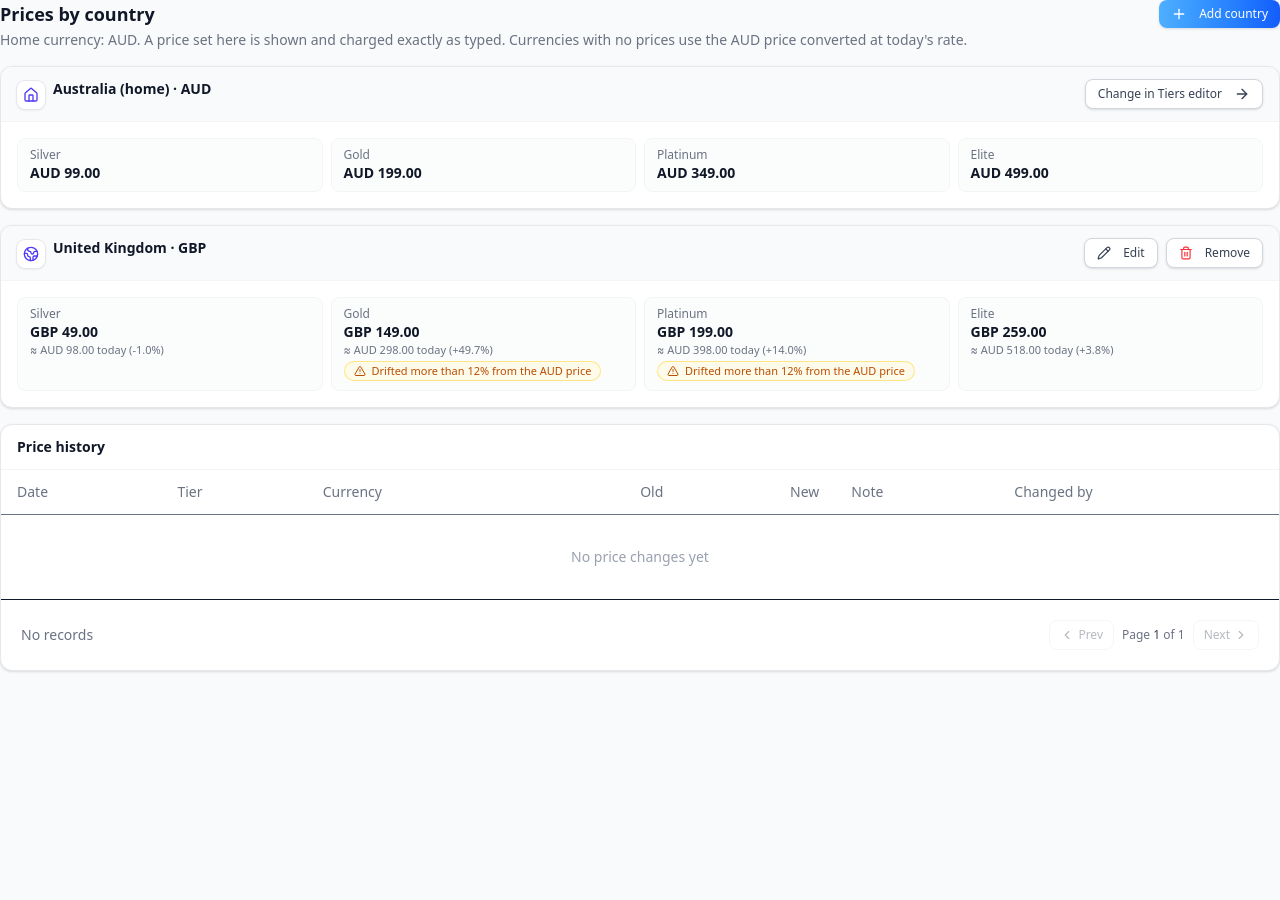
Test: Prices by country › shows VeloxVerse's error as-is
The width and height of the screenshot is (1280, 900).
What coordinates should you click on to do the following:
click the button with aria-label "Edit GBP prices"
I would click on:
 (1121, 253)
Its box is [1084, 238, 1158, 268].
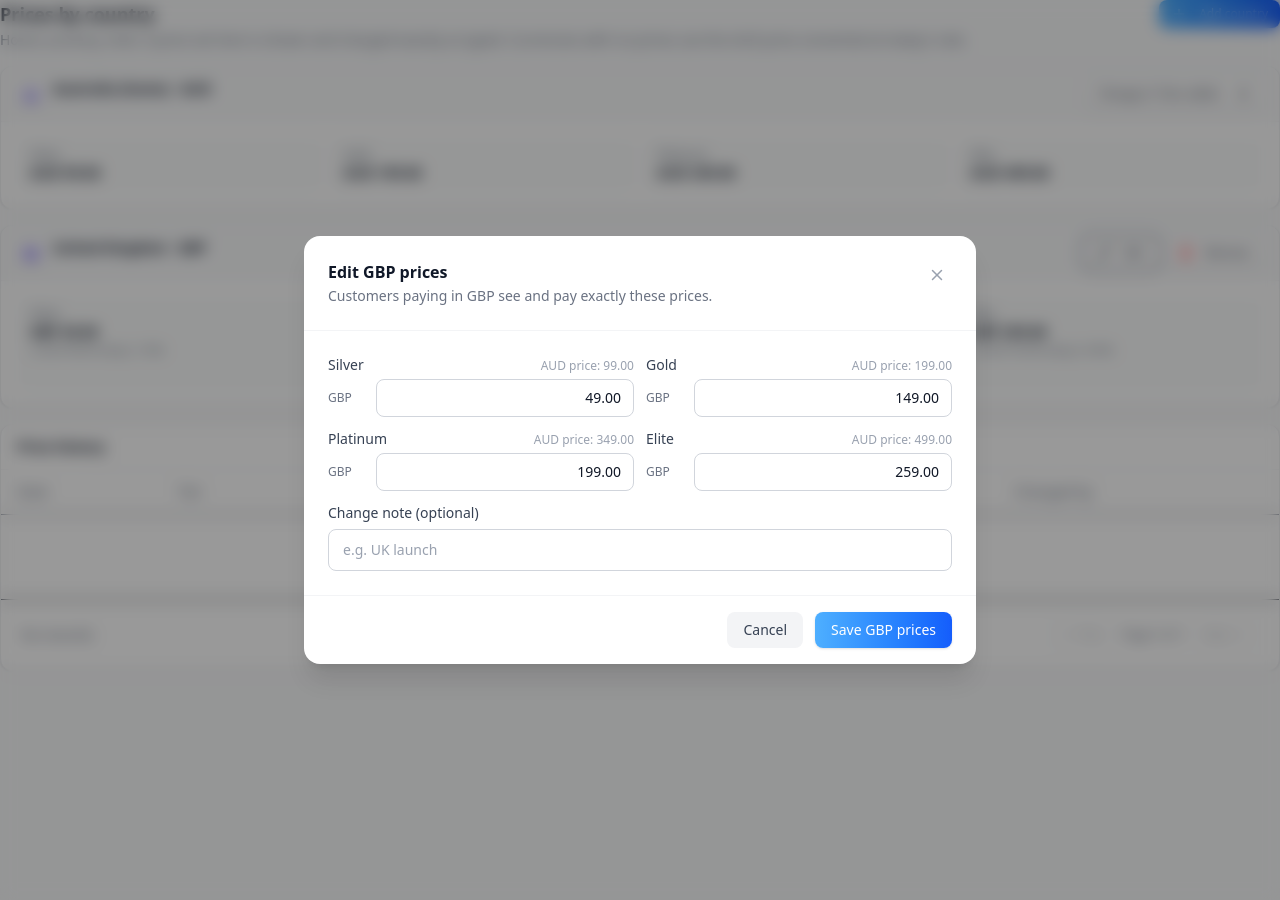
Expected: the field labelled "Elite AUD price: 499.00" holds "259.00", [694, 453, 952, 491]
What coordinates should you click on to do the following:
click the button "Save GBP prices"
I would click on:
 (884, 630)
Its box is [815, 612, 952, 648].
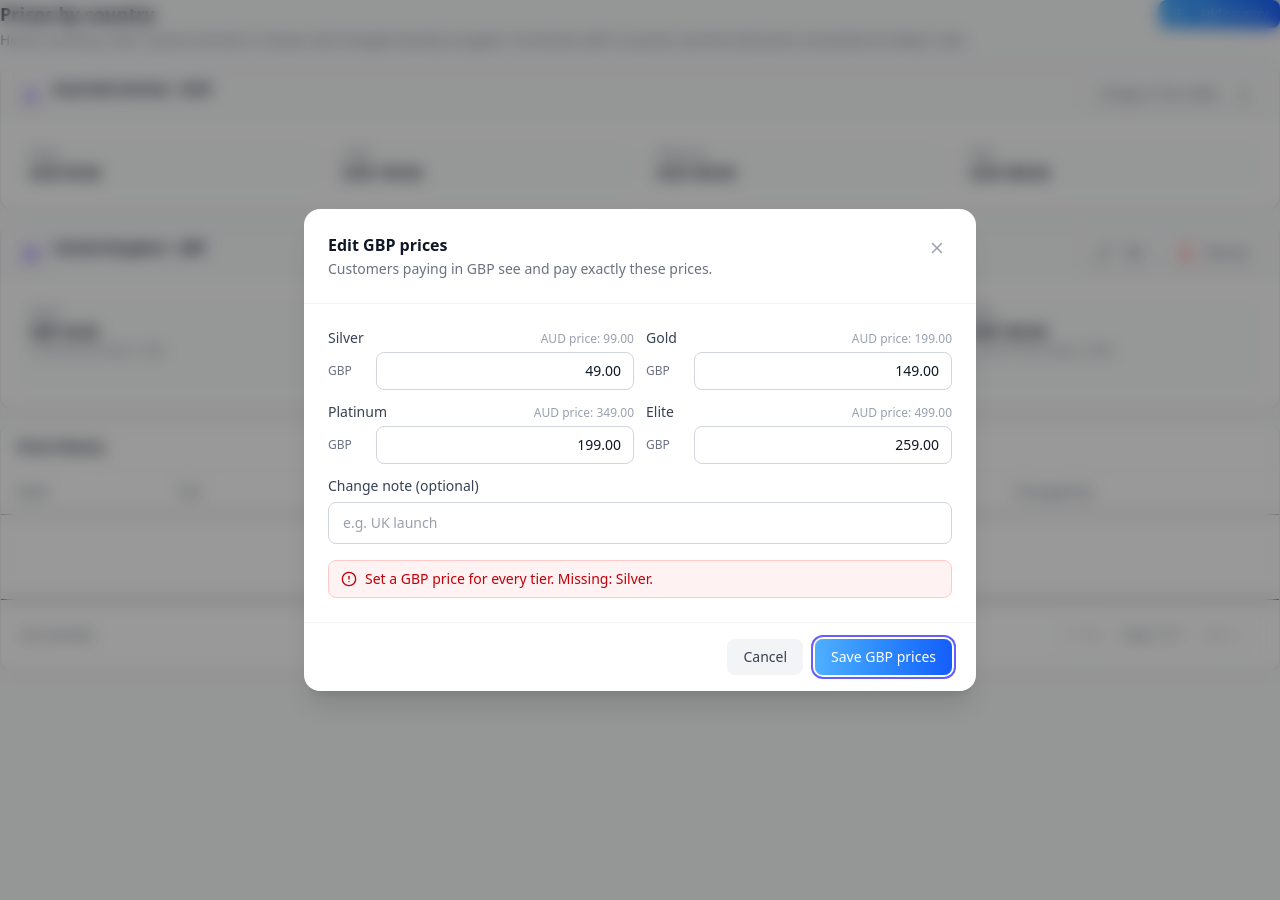
Expected: the message reads "Set a GBP price for every tier. Missing: Silver.", [365, 569, 653, 588]
